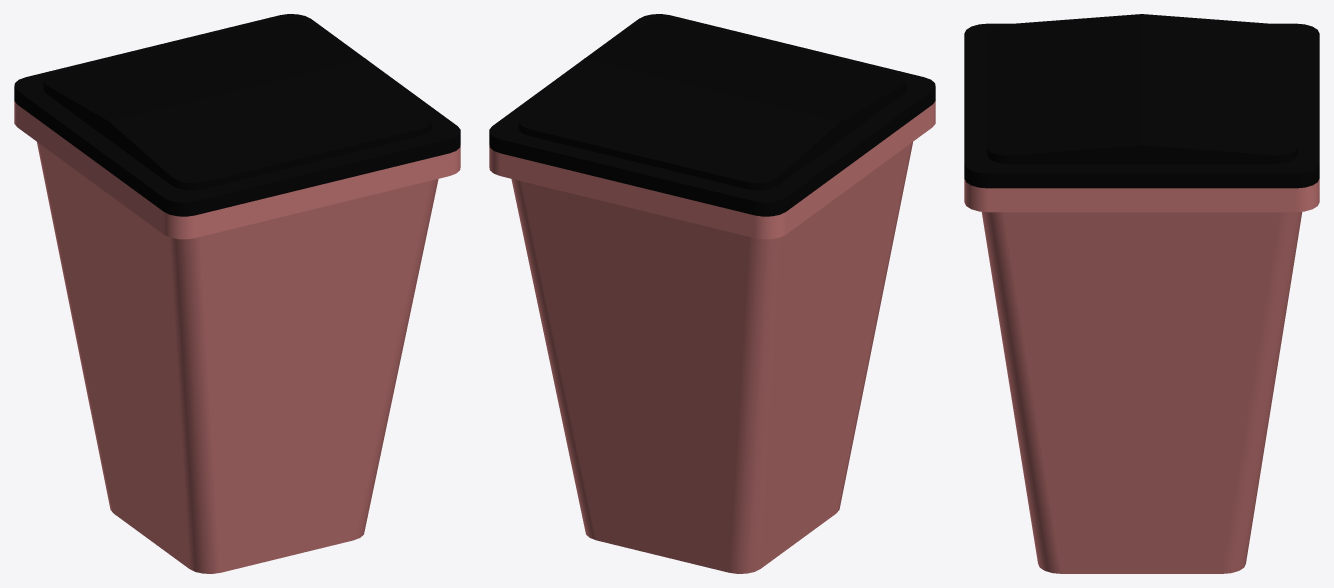
File: Bin.fbx
3 renders of one model, left to right at view 1: azimuth 30°, elevation 25°; view 2: azimuth 150°, elevation 25°; view 3: azimuth 270°, elevation 25°, orthographic. The views are drawn at different scales.
Visible parts, largest first — view 1: Bin; view 2: Bin; view 3: Bin.
Part boxes in pixels (x1,y1,x2,y2): Bin: (14,14,460,573); Bin: (489,14,935,573); Bin: (964,14,1319,573).
Size of the model in its own units: 67.06 by 93.77 by 67.06.
